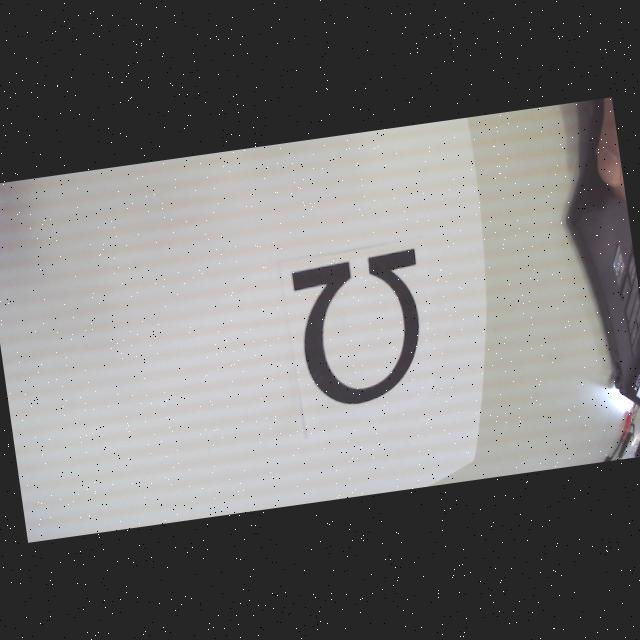OMEGA: (290, 248, 436, 410)
